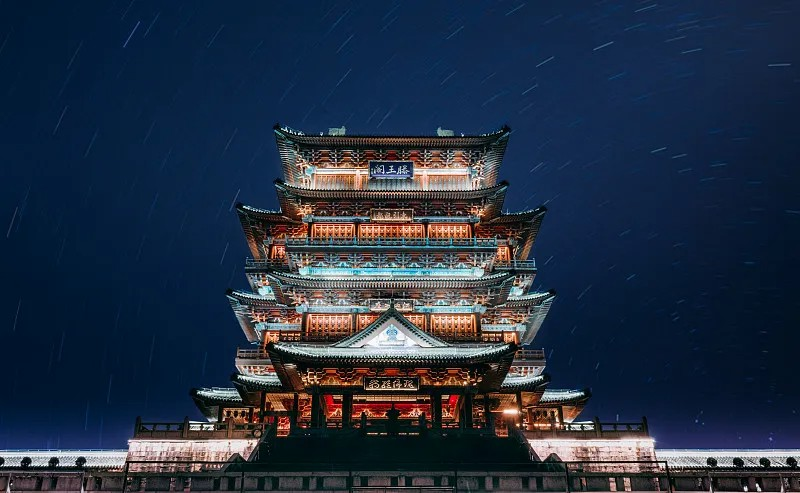Teng: (196, 124, 586, 429)
